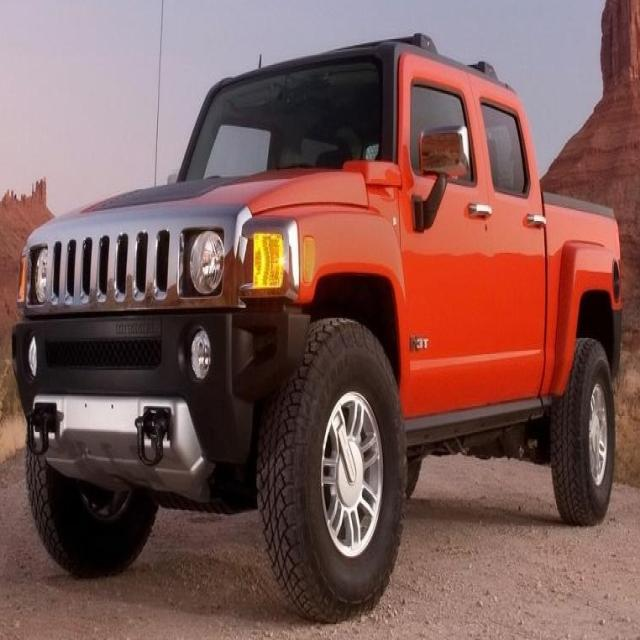CMT: (36, 38, 623, 602)
